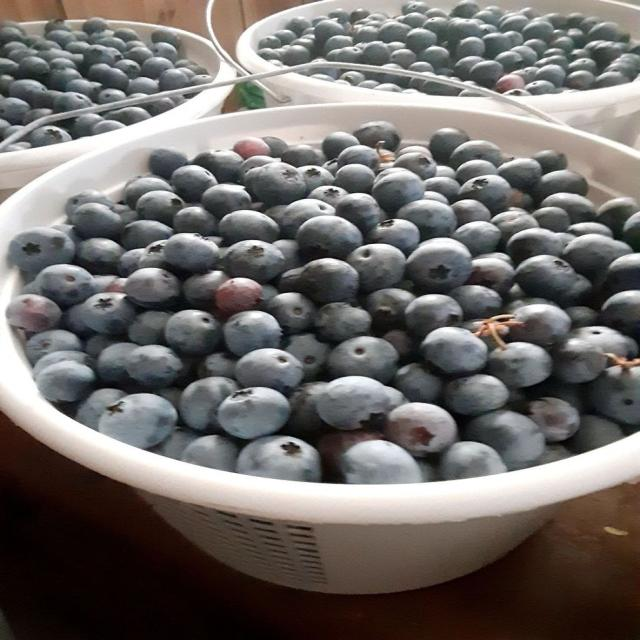blueberry: (466, 410, 544, 470), (99, 394, 177, 448), (385, 403, 458, 457), (236, 436, 321, 482), (317, 376, 387, 430), (218, 387, 290, 439), (185, 271, 266, 317), (516, 256, 591, 305), (340, 441, 422, 484), (407, 239, 472, 292), (317, 429, 382, 480), (179, 376, 238, 432), (327, 336, 398, 382), (421, 327, 487, 374), (562, 235, 632, 278), (488, 342, 553, 388), (9, 227, 75, 272), (236, 349, 303, 393), (296, 216, 362, 260), (347, 244, 406, 292), (298, 259, 359, 304), (267, 199, 335, 238), (445, 374, 509, 415), (509, 305, 571, 347), (247, 162, 306, 206), (439, 442, 507, 480), (165, 310, 221, 356), (224, 311, 281, 356), (224, 241, 284, 283), (36, 265, 96, 306), (396, 199, 456, 240), (126, 345, 183, 388), (405, 294, 462, 337), (36, 361, 95, 401), (527, 398, 579, 442), (314, 303, 372, 342), (373, 170, 425, 213), (570, 325, 637, 358), (125, 268, 180, 308), (83, 293, 135, 335), (567, 415, 624, 453), (285, 333, 330, 381), (164, 233, 218, 273), (365, 288, 415, 330), (6, 294, 61, 332), (180, 435, 238, 471), (265, 293, 316, 333), (69, 203, 124, 240), (25, 329, 82, 364), (393, 363, 442, 403), (460, 175, 511, 213), (600, 290, 639, 339), (335, 193, 381, 234), (367, 219, 419, 255), (449, 285, 502, 320), (533, 169, 588, 202), (448, 134, 501, 168), (468, 256, 514, 295), (596, 198, 639, 238), (135, 190, 184, 225), (171, 165, 217, 202), (452, 221, 501, 255), (191, 151, 242, 183), (120, 220, 173, 250), (124, 177, 173, 208), (492, 210, 539, 242), (128, 311, 172, 345), (153, 427, 199, 459), (498, 158, 542, 191), (603, 254, 639, 294), (172, 205, 218, 236), (394, 153, 436, 179), (452, 199, 491, 227), (61, 305, 93, 338), (456, 160, 496, 185), (322, 132, 359, 159), (281, 145, 326, 167), (199, 352, 237, 378), (533, 207, 572, 232), (9, 79, 46, 105), (469, 61, 504, 88), (273, 239, 303, 270), (240, 156, 277, 181), (424, 176, 459, 202), (299, 166, 334, 192), (309, 185, 347, 208), (107, 107, 151, 125), (53, 92, 92, 112), (86, 335, 119, 358), (565, 306, 597, 329), (567, 222, 613, 238), (73, 114, 103, 137), (536, 64, 566, 86), (539, 444, 572, 464), (127, 75, 159, 95), (152, 27, 180, 49), (124, 46, 153, 65), (150, 42, 177, 62), (386, 387, 408, 411), (114, 59, 139, 79), (23, 109, 53, 125), (82, 17, 108, 35), (92, 121, 125, 135), (97, 89, 126, 104)
